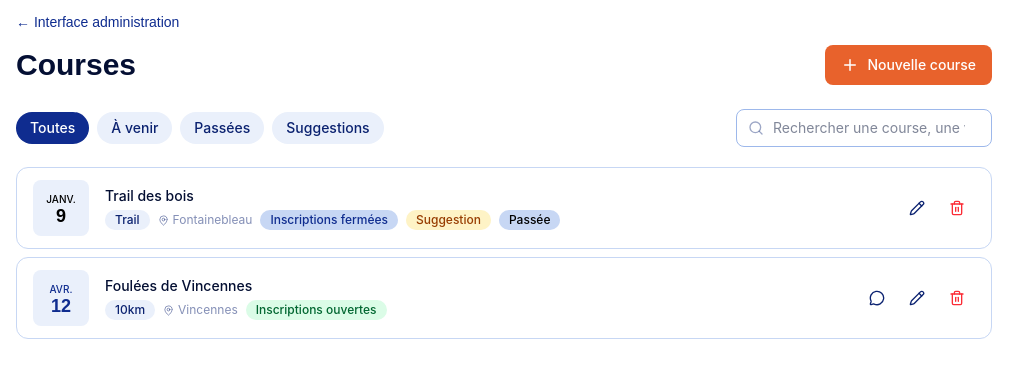
Test: GestionCourses › affiche l'état vide quand rien ne correspond
Expected: the text "Foulées de Vincennes" is shown, [105,277,252,294]
Type "marathon de paris" into the search field with placeholder "Rechercher une course, une ville…".
click(864, 128); type("marathon de paris")  # box [736,109,992,147]
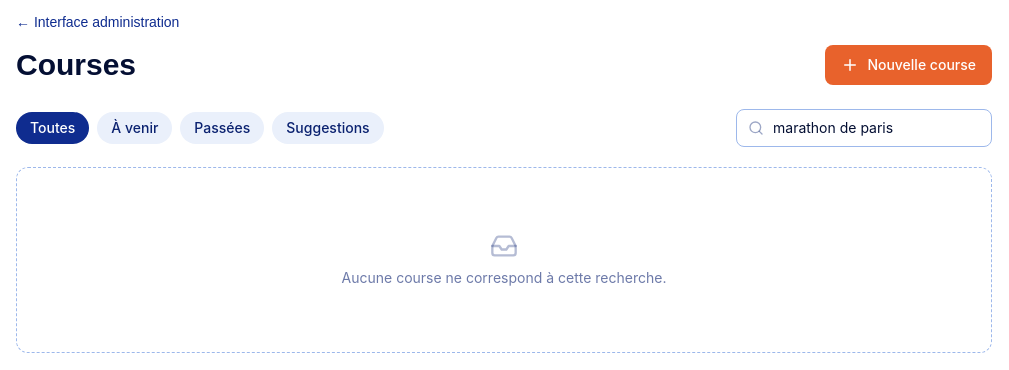
Expected: the text "Aucune course ne correspond à cette recherche." is shown, [342,268,666,288]
